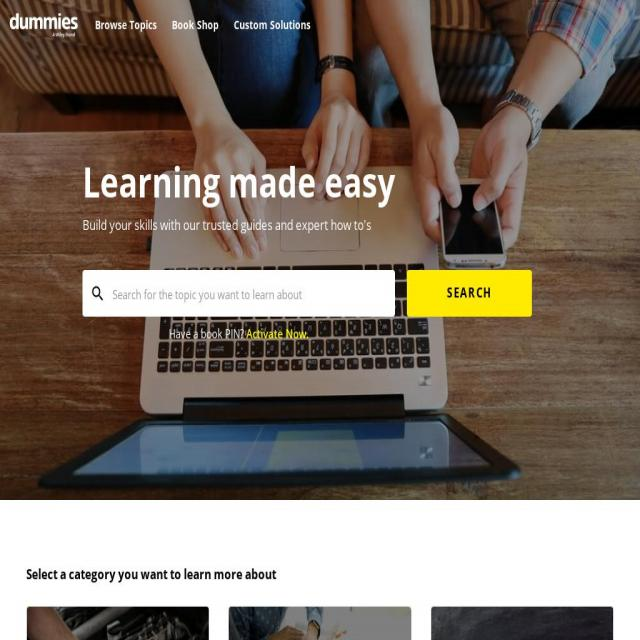navigation-links: (90, 13, 320, 39)
search: (74, 256, 544, 345)
